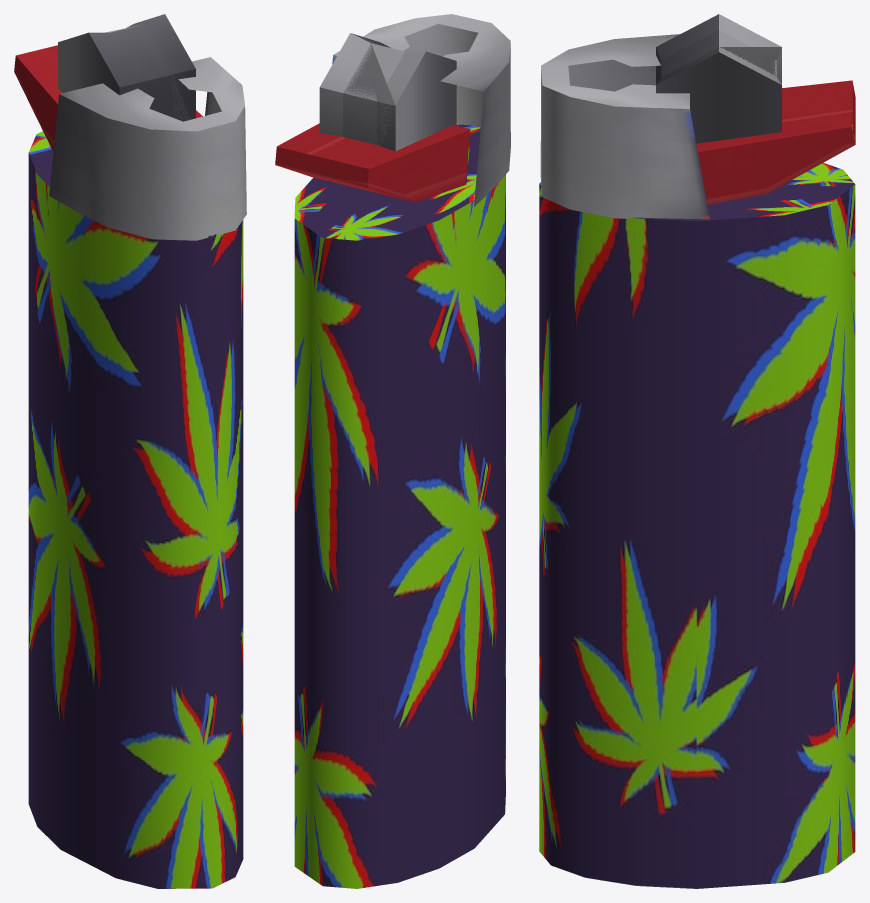
File: lighter.fbx
3 views of the same model, side by side, from view 1: azimuth 30°, elevation 25°; view 2: azimuth 150°, elevation 25°; view 3: azimuth 270°, elevation 25° (orthographic). The views are drawn at different scales.
Visible parts, largest first — view 1: Lighter; view 2: Lighter; view 3: Lighter.
Boxes of the visible parts, left/top/right/bottom form: Lighter: left=14, top=14, right=246, bottom=888; Lighter: left=275, top=14, right=510, bottom=888; Lighter: left=539, top=14, right=855, bottom=888.
Bounding box in the file's own units: 3.03 × 14.88 × 5.21.
Materials: 1 (1 with a texture image).
